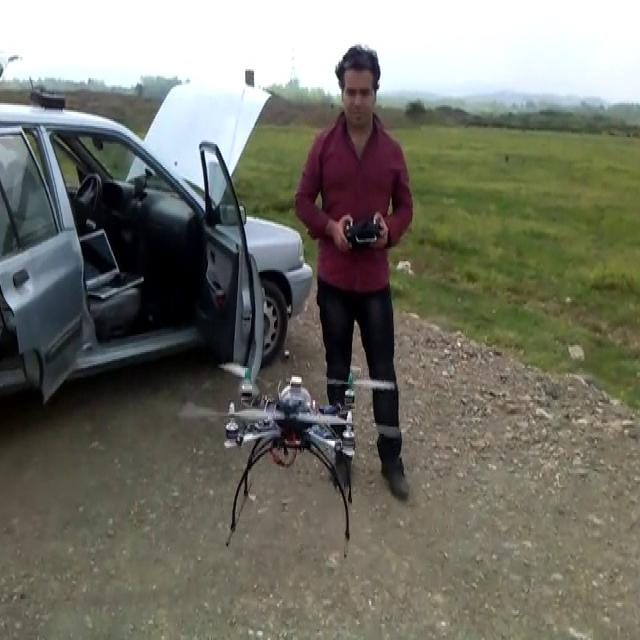drone: (175, 358, 395, 556)
